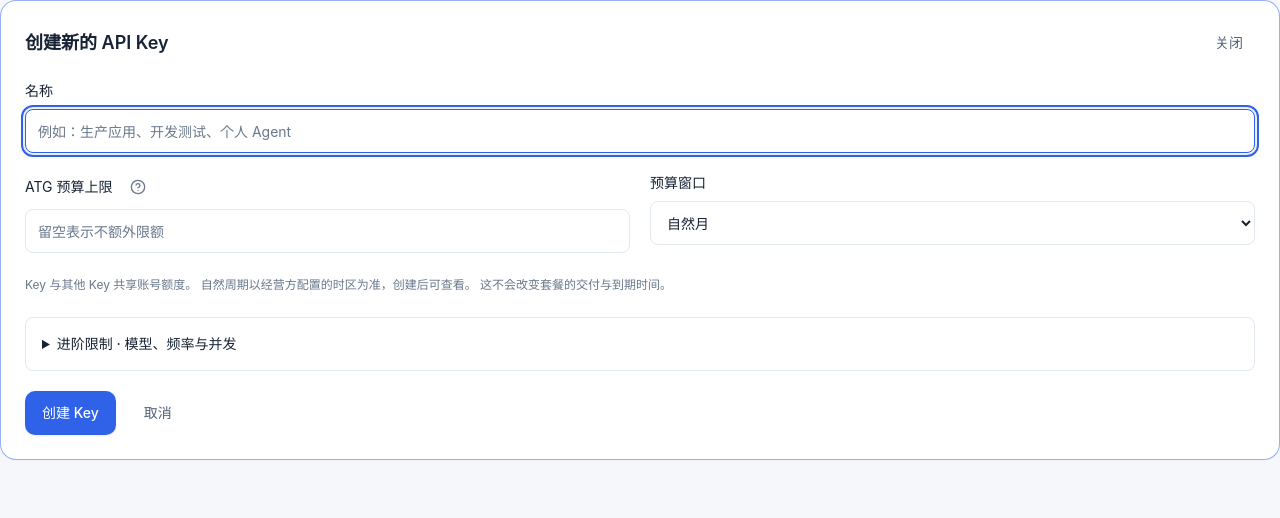
Test: creates a model-scoped Key in place, displays its Base URL and locks the secret until close
Type "模型接入应用" into the field labelled "名称" at coordinates (640, 131), box [25,109,1255,153]
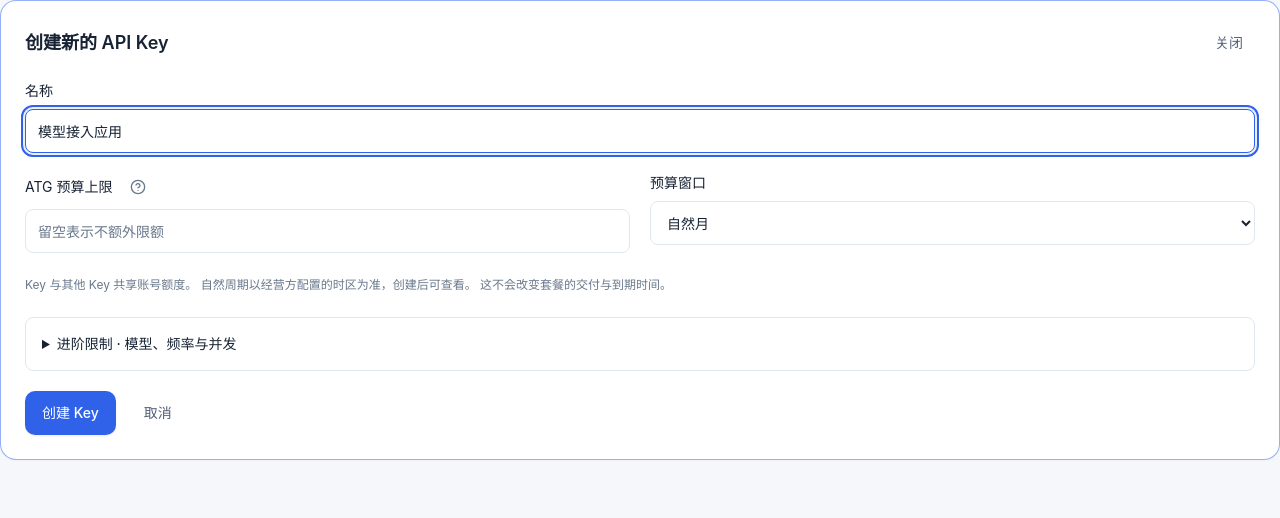
Click the button "创建 Key" at coordinates (70, 413), box [25,391,116,435]
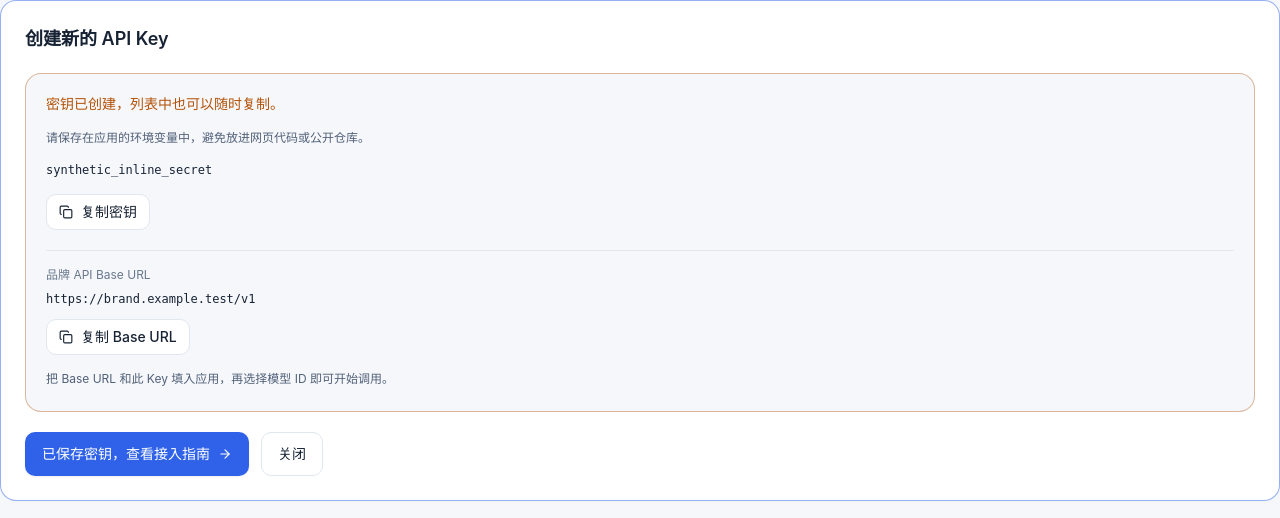
expect the text "synthetic_inline_secret" is shown: met, box [46,163,212,177]
expect the text "https://brand.example.test/v1" is shown: met, box [46,292,256,306]
expect the button "复制 Base URL" is shown: met, box [46,319,190,355]
